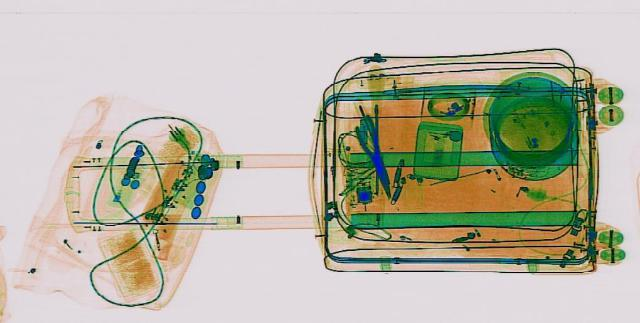Pliers: (346, 114, 402, 197)
